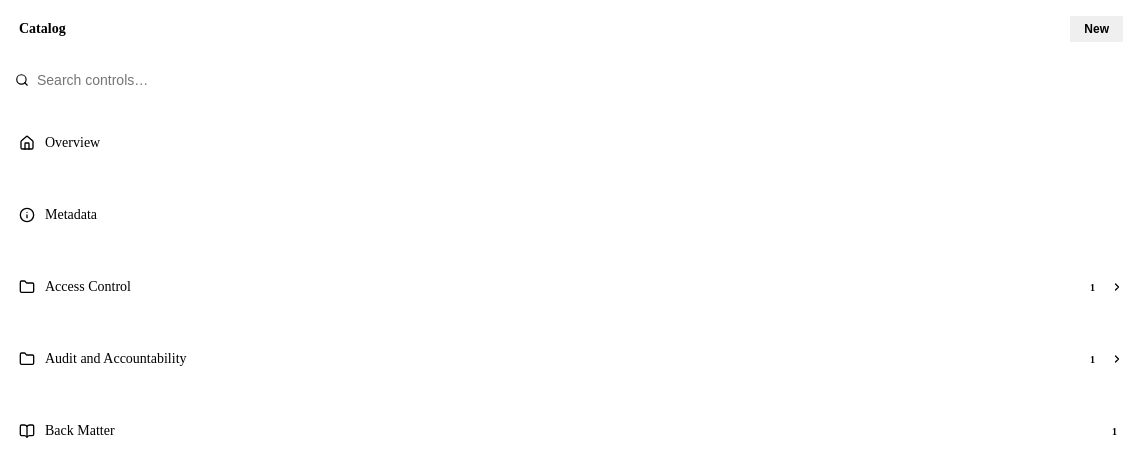
Scenario: CatalogPage Markdown prose (issue #104) › opens the control a #fragment link names
Click the text "Access Control": (88, 286) [45, 279, 131, 294]
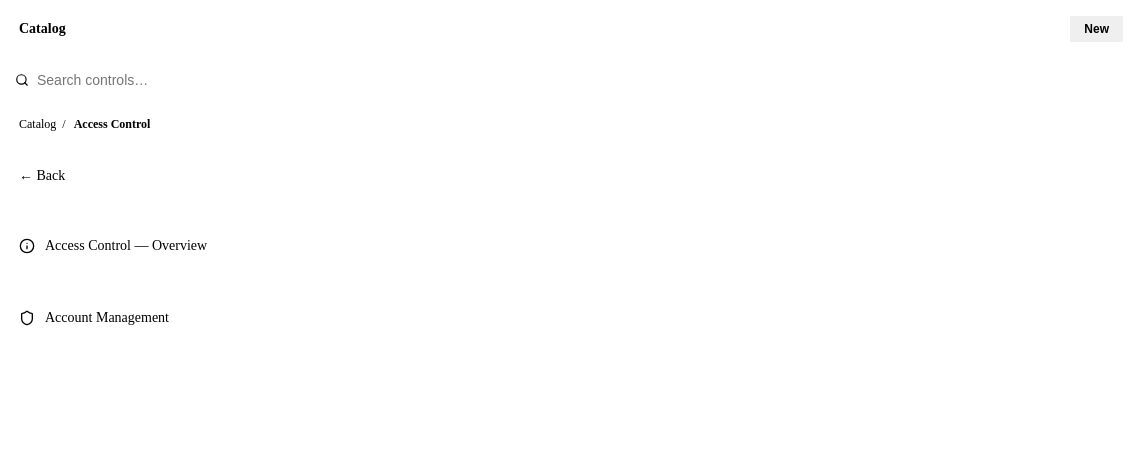
Click the text "Account Management": (107, 318) [45, 310, 169, 325]
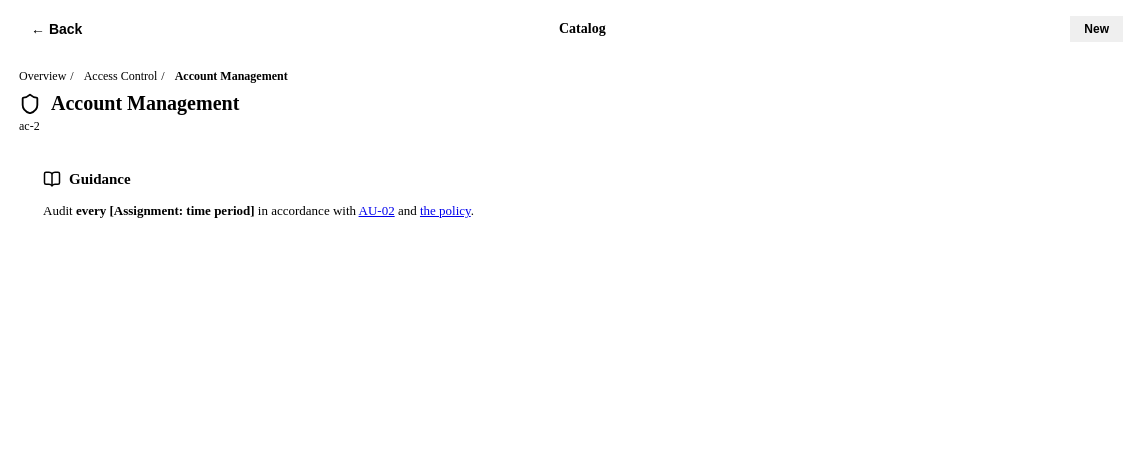
Now the heading "Account Management" is shown, box [51, 92, 239, 115]
Click the link "AU-02": (377, 210) [359, 203, 395, 218]
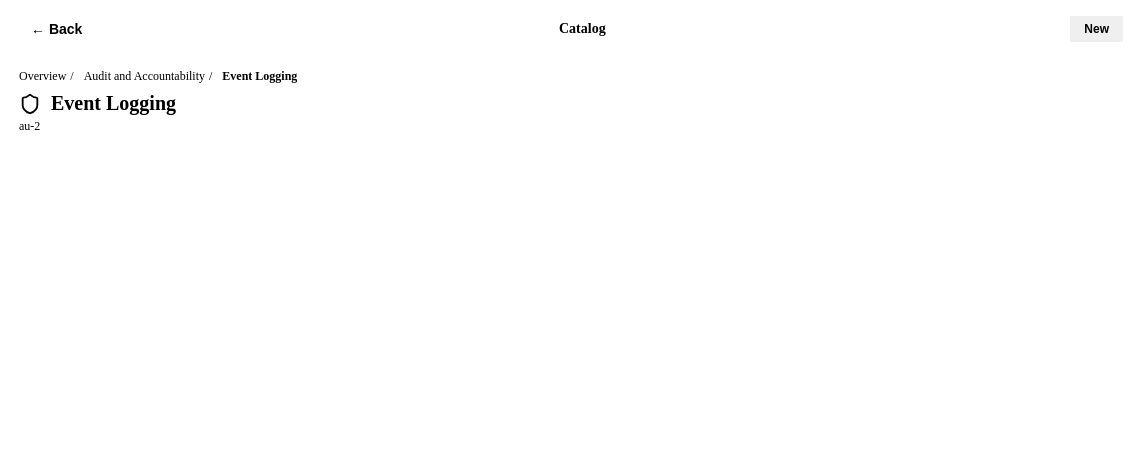
Now the heading "Event Logging" is shown, box [51, 92, 176, 115]
